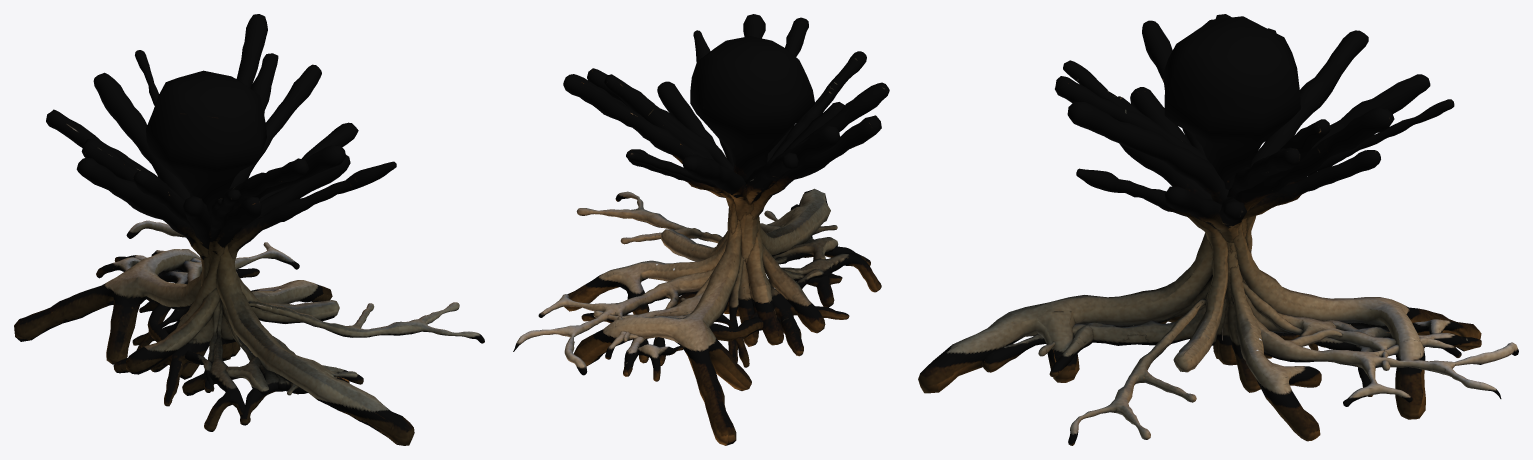
File: tree_trunk.fbx
3 renders of one model, left to right at view 1: azimuth 30°, elevation 25°; view 2: azimuth 150°, elevation 25°; view 3: azimuth 270°, elevation 25°, orthographic. The views are drawn at different scales.
Parts seen in each view (by area): view 1: Vert; view 2: Vert; view 3: Vert.
Boxes of the visible parts, left/top/right/bottom form: Vert: left=14, top=14, right=484, bottom=445; Vert: left=513, top=14, right=889, bottom=445; Vert: left=918, top=14, right=1518, bottom=445.
Size of the model in its own units: 722 by 632 by 949.
